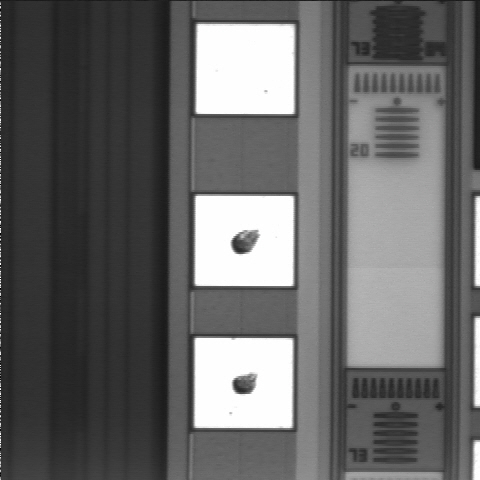pad: (195, 196, 294, 286), (194, 338, 293, 428), (196, 24, 294, 114)
